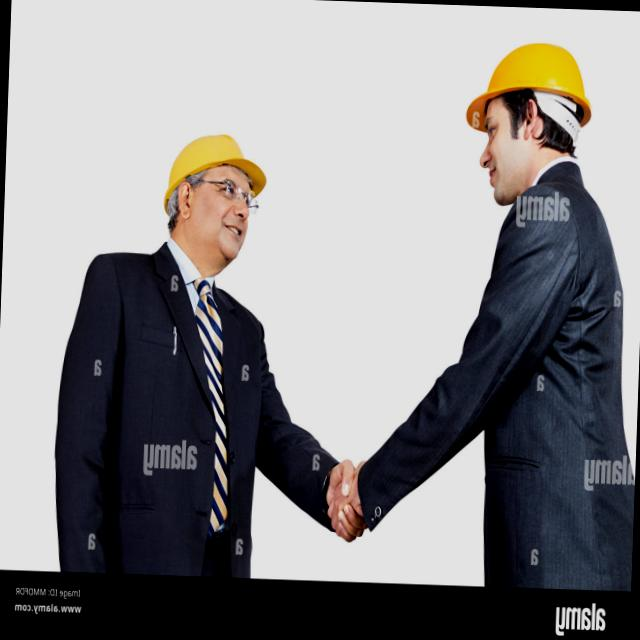helmet: (464, 35, 598, 148), (161, 127, 274, 214)
no-goggles: (198, 180, 258, 212)
no-vest: (52, 264, 274, 582), (449, 187, 622, 584)
